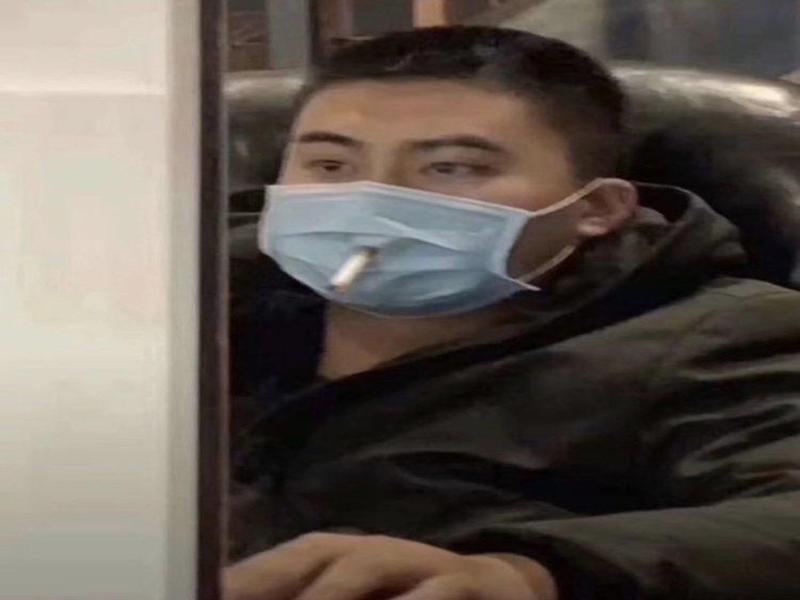with_mask: (248, 28, 639, 317)
